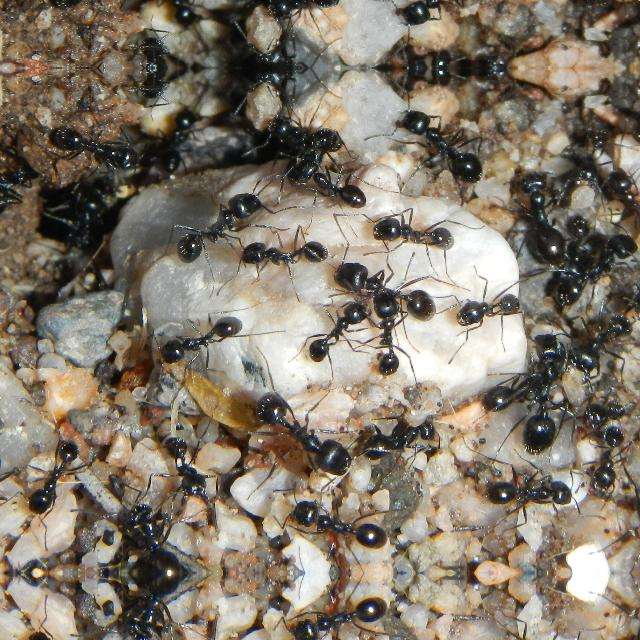Messor: (253, 390, 354, 474), (326, 254, 446, 324), (165, 180, 267, 258), (292, 482, 398, 556), (500, 159, 570, 263), (43, 109, 149, 173), (398, 109, 488, 183), (348, 282, 414, 380), (545, 226, 639, 294), (306, 289, 376, 375), (479, 458, 576, 520), (18, 432, 90, 514), (512, 332, 560, 454), (150, 308, 246, 366), (292, 588, 398, 640), (116, 498, 186, 572), (362, 394, 434, 464), (115, 572, 186, 640), (574, 298, 632, 380), (294, 156, 374, 210), (232, 230, 324, 276), (482, 356, 558, 409), (57, 189, 111, 261), (0, 148, 38, 244), (582, 421, 626, 502), (158, 428, 208, 494), (264, 112, 340, 152), (597, 159, 639, 227), (43, 0, 149, 25), (117, 28, 177, 68), (117, 66, 177, 105), (159, 106, 197, 166), (554, 210, 586, 280), (398, 0, 487, 25), (572, 388, 628, 424), (479, 623, 576, 640), (263, 0, 340, 21), (412, 67, 456, 95), (412, 39, 456, 67), (159, 0, 197, 27)
